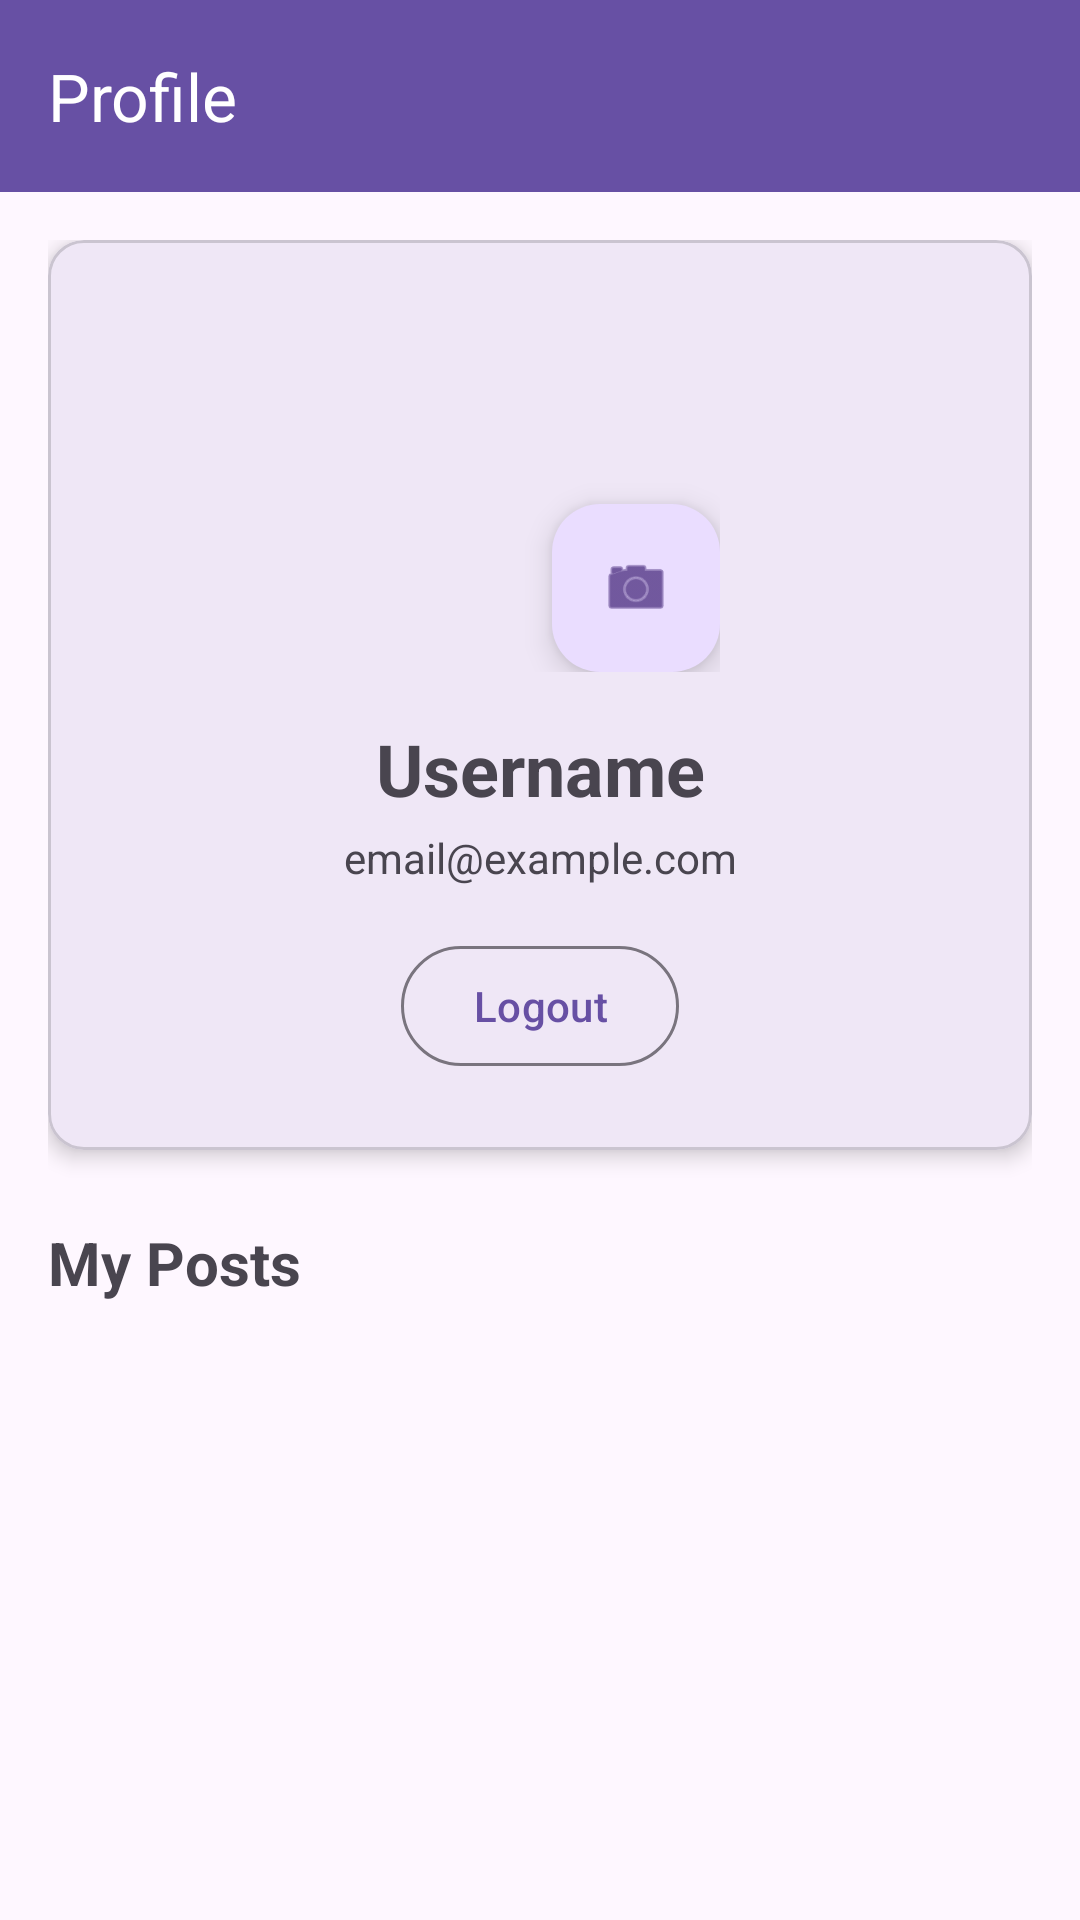

Icon click points for this 1080w x 1920h phone screenshot, format point (x, y):
Change profile picture: point (636, 588)
